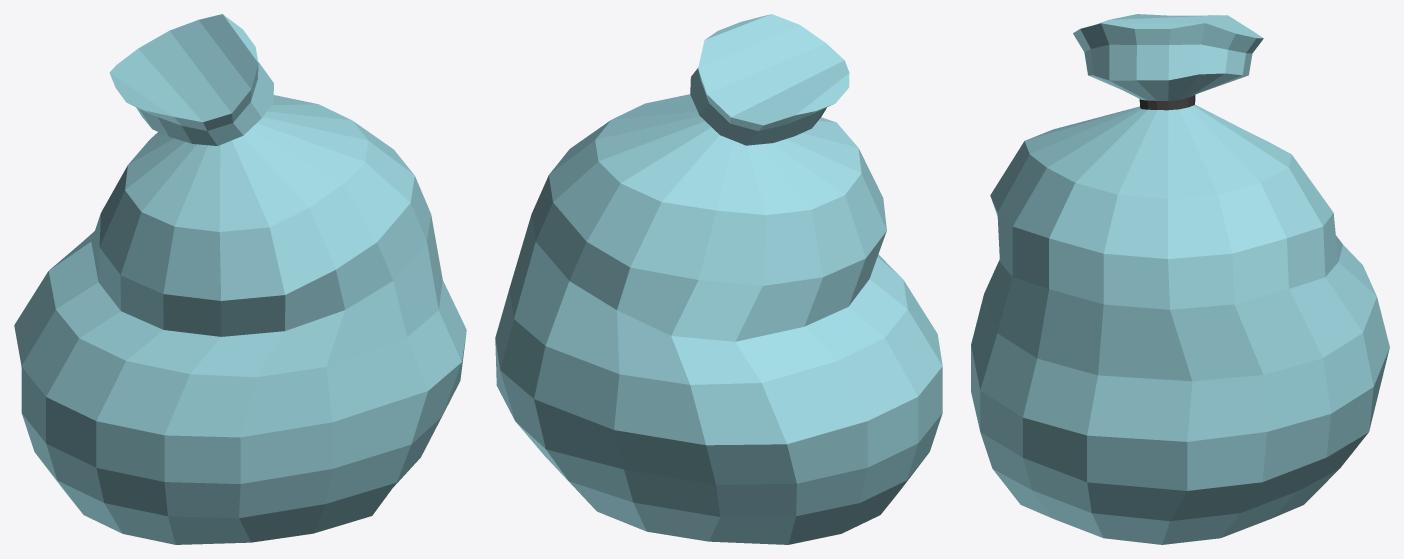
Rendered from Garbagabag_2_Partyassets.fbx.
3 views of the same model, side by side, from view 1: azimuth 30°, elevation 25°; view 2: azimuth 150°, elevation 25°; view 3: azimuth 270°, elevation 25° (orthographic).
Parts seen in each view (by area): view 1: Garbagabag_2_Partyassets; view 2: Garbagabag_2_Partyassets; view 3: Garbagabag_2_Partyassets.
Boxes of the visible parts, <box> form: Garbagabag_2_Partyassets: <box>14,14,466,544</box>; Garbagabag_2_Partyassets: <box>495,14,942,544</box>; Garbagabag_2_Partyassets: <box>971,14,1389,544</box>.
Size of the model in its own units: 53.24 by 58.08 by 48.66.
